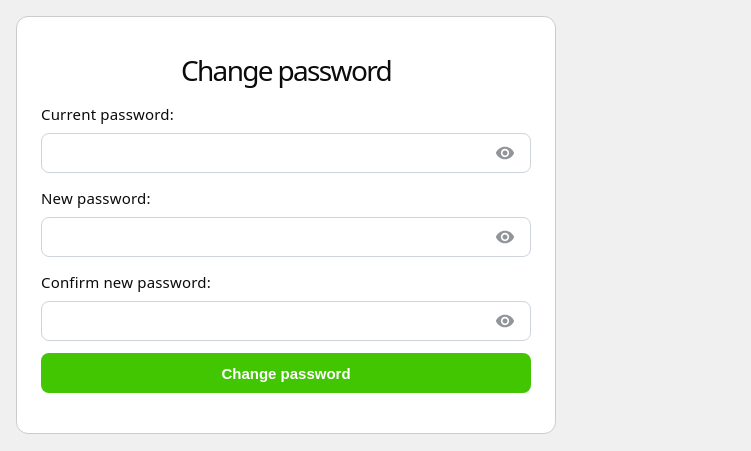
Scenario: shows validation message when passwords do not match
Type "StrongPass123!" into the password field with test id "new-password-input" at (286, 237), box x1=41 y1=217 x2=531 y2=257
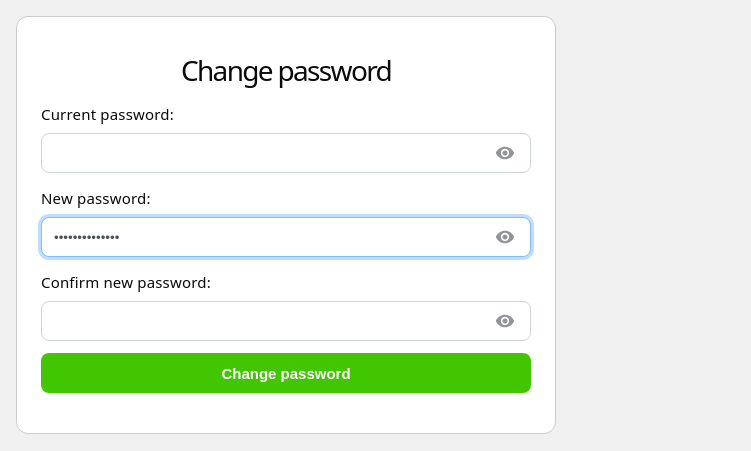
Type "DifferentPass123!" into the password field with test id "confirm-password-input" at (286, 321), box x1=41 y1=301 x2=531 y2=341
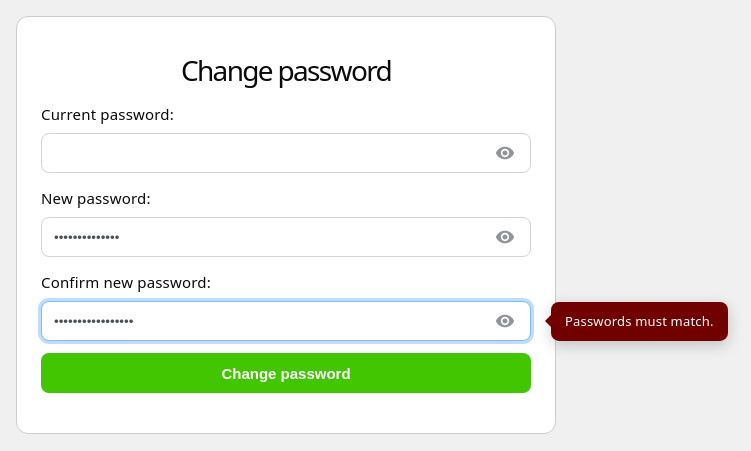
Expected: the text "Passwords must match." is shown, x1=551 y1=302 x2=728 y2=340
